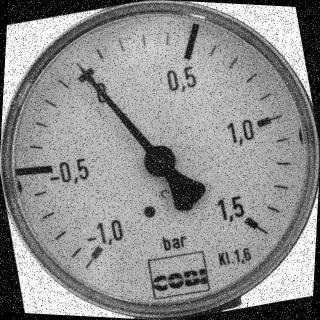gauge: (0, 0, 320, 320), (225, 194, 273, 243), (74, 226, 124, 272), (142, 143, 178, 179), (71, 59, 90, 77)
